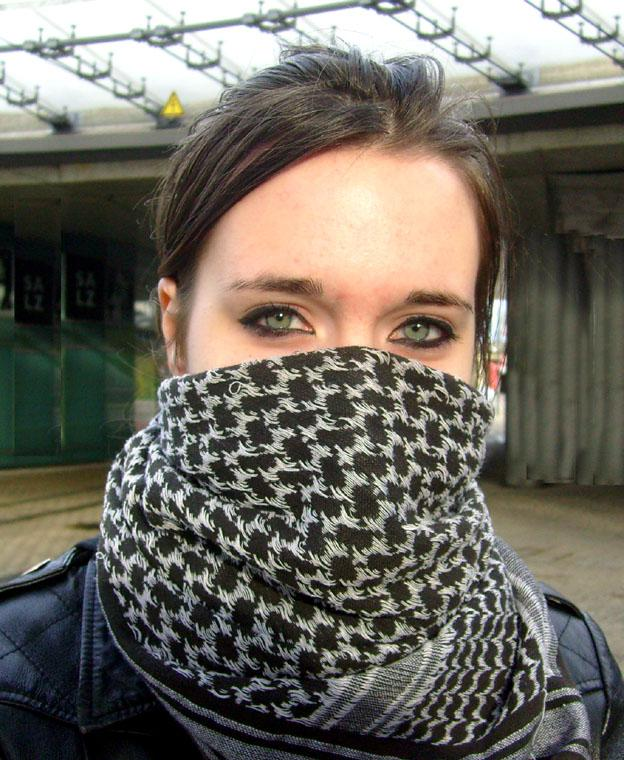OK: (162, 187, 515, 540)
